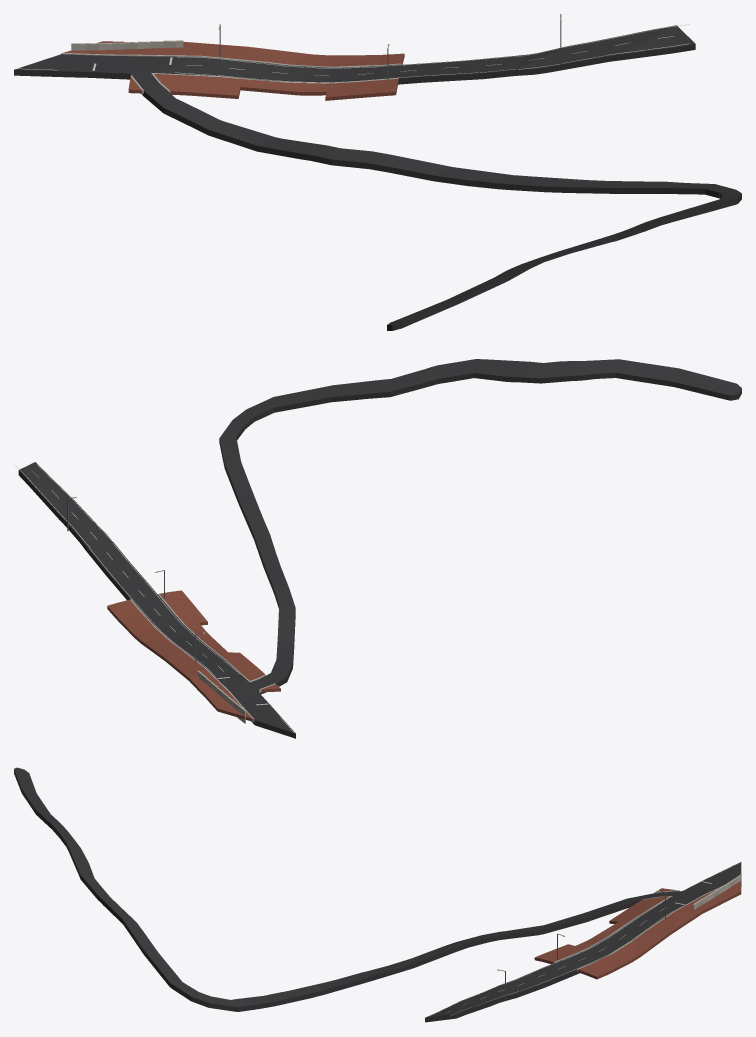
The picture shows the model from 3 angles, top to bottom: view 1: azimuth 30°, elevation 25°; view 2: azimuth 150°, elevation 25°; view 3: azimuth 270°, elevation 25°; orthographic projection. The views are drawn at different scales.
Bounding box in the file's own units: 121 × 24.18 × 165.
